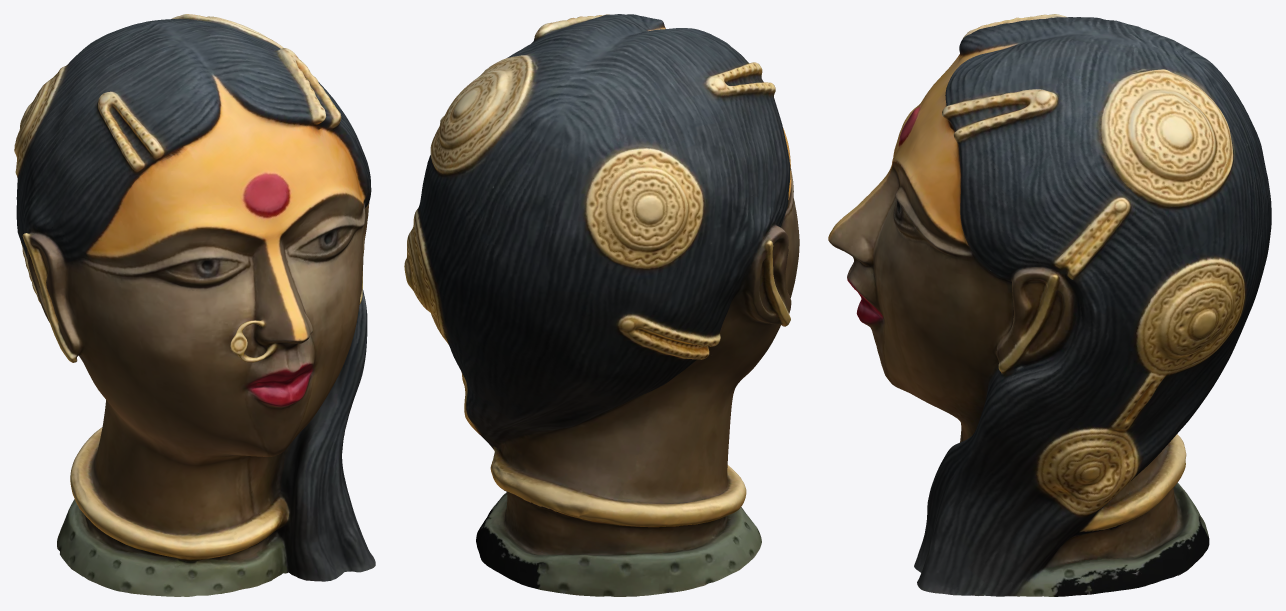
The model's file is thota-bronze-female-head-with-long-hair.glb.
3 views of the same model, side by side, from view 1: azimuth 30°, elevation 25°; view 2: azimuth 150°, elevation 25°; view 3: azimuth 270°, elevation 25° (orthographic).
Parts seen in each view (by area): view 1: Mesh; view 2: Mesh; view 3: Mesh.
Part boxes in pixels (left/top/right/bottom): Mesh: left=14, top=14, right=375, bottom=596; Mesh: left=404, top=14, right=799, bottom=596; Mesh: left=828, top=14, right=1271, bottom=596.
Size of the model in its own units: 4.29 by 6.24 by 4.96.
1 material, 1 textured.
